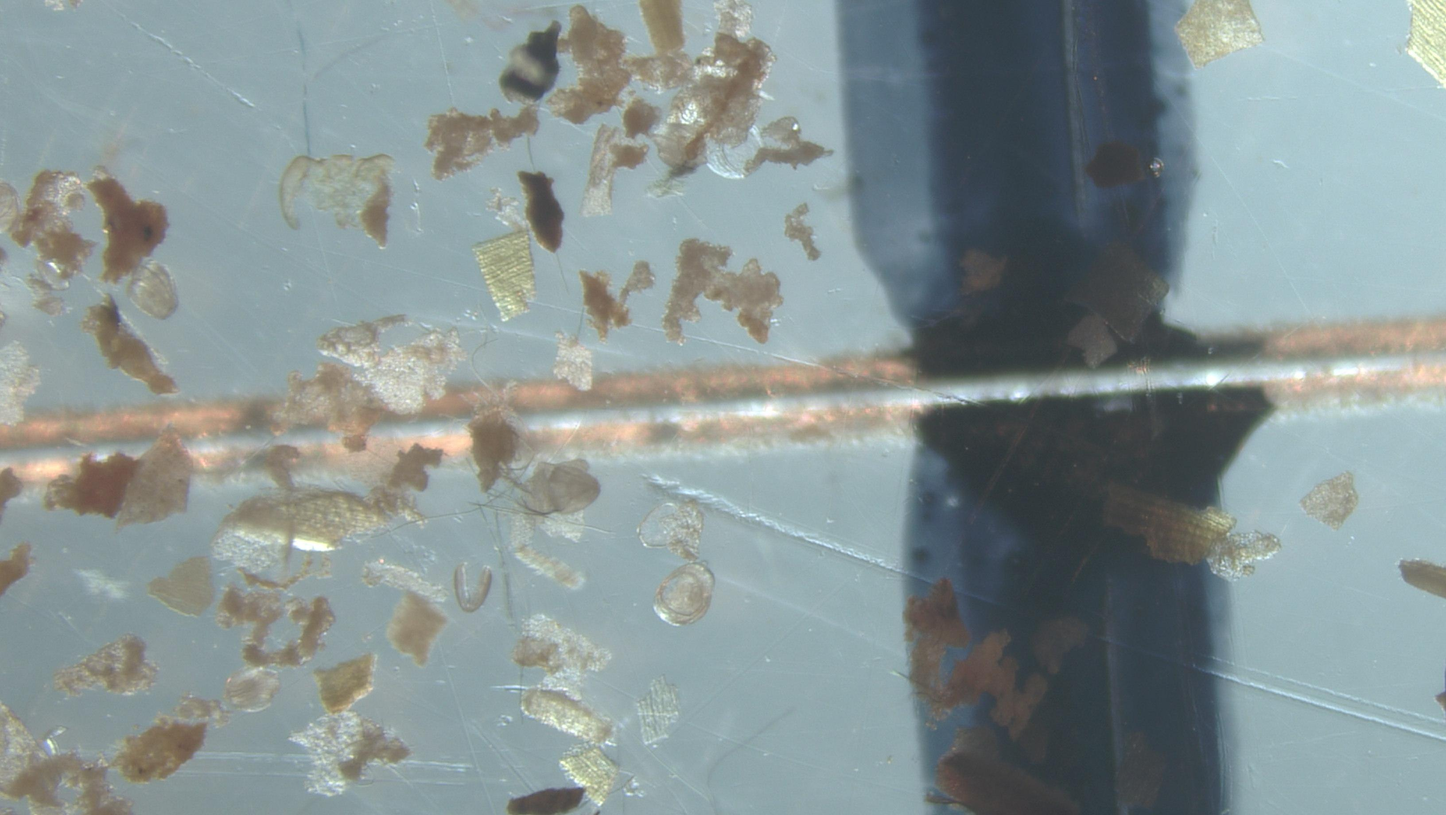dead: (636, 502, 682, 548), (454, 563, 492, 613)
live: (654, 563, 715, 626), (128, 262, 179, 320), (706, 127, 762, 179), (224, 668, 280, 711)
